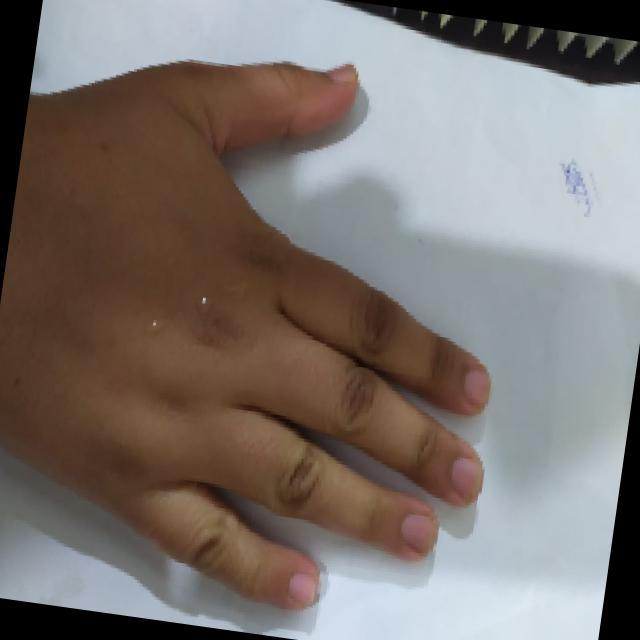Nail: (399, 514, 436, 552), (450, 458, 479, 496), (463, 369, 489, 408), (288, 572, 313, 601), (326, 64, 356, 83)
